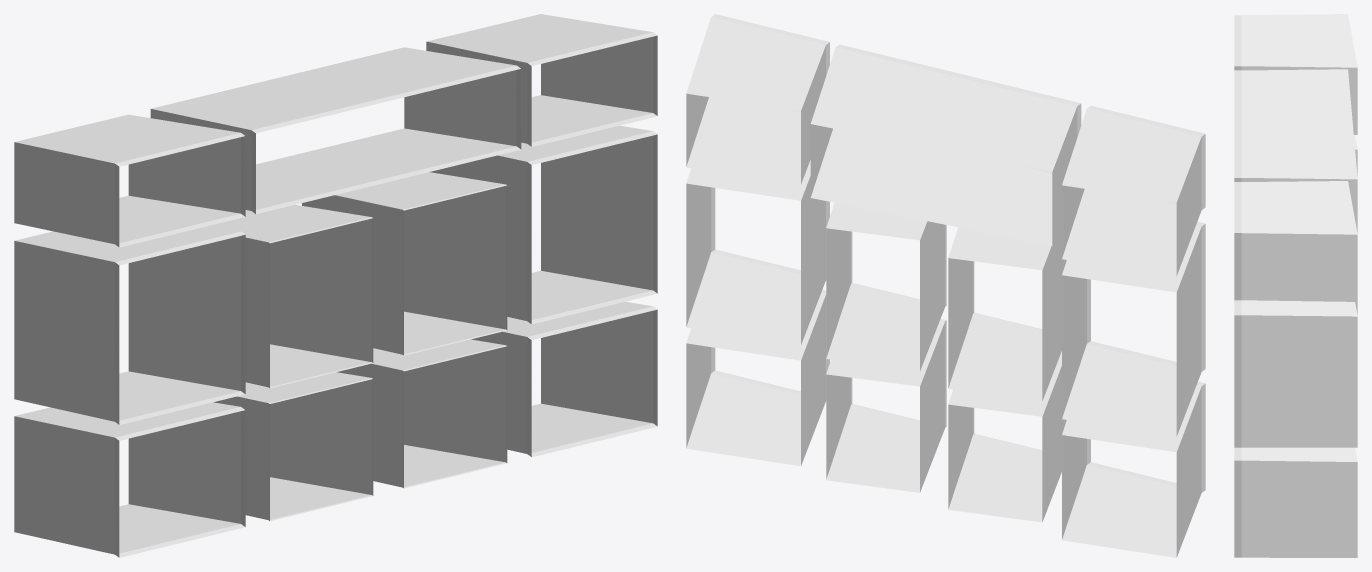
Rendered from set_add_effect_r_door_a.fbx.
The picture shows the model from 3 angles, left to right: view 1: azimuth 30°, elevation 25°; view 2: azimuth 150°, elevation 25°; view 3: azimuth 270°, elevation 25°; orthographic projection. The views are drawn at different scales.
Parts seen in each view (by area): view 1: door_a_window_add_effect_r, door_a_02_add_effect_r, door_a_01_add_effect_r; view 2: door_a_window_add_effect_r, door_a_02_add_effect_r, door_a_01_add_effect_r; view 3: door_a_window_add_effect_r.
Part boxes in pixels (bbox=[...]): door_a_window_add_effect_r: bbox=[14, 14, 657, 557]; door_a_02_add_effect_r: bbox=[302, 172, 507, 488]; door_a_01_add_effect_r: bbox=[208, 204, 373, 520]; door_a_window_add_effect_r: bbox=[686, 14, 1205, 557]; door_a_02_add_effect_r: bbox=[826, 202, 946, 492]; door_a_01_add_effect_r: bbox=[948, 221, 1066, 522]; door_a_window_add_effect_r: bbox=[1234, 14, 1357, 557].
Size of the model in its own units: 413 by 283 by 92.49.
